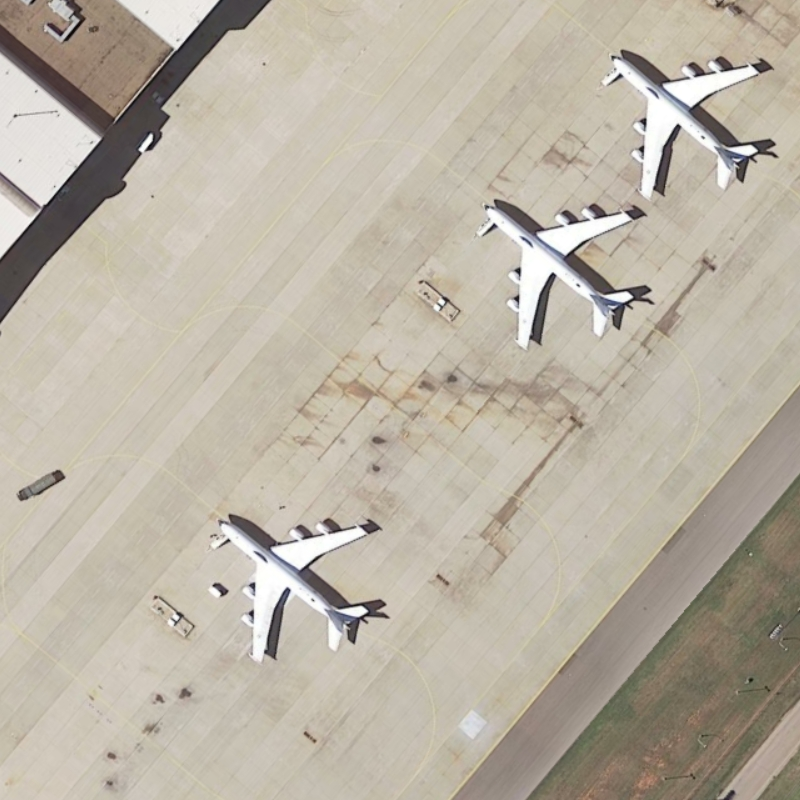A11: (465, 186, 658, 358), (207, 503, 397, 667), (598, 38, 777, 205)
